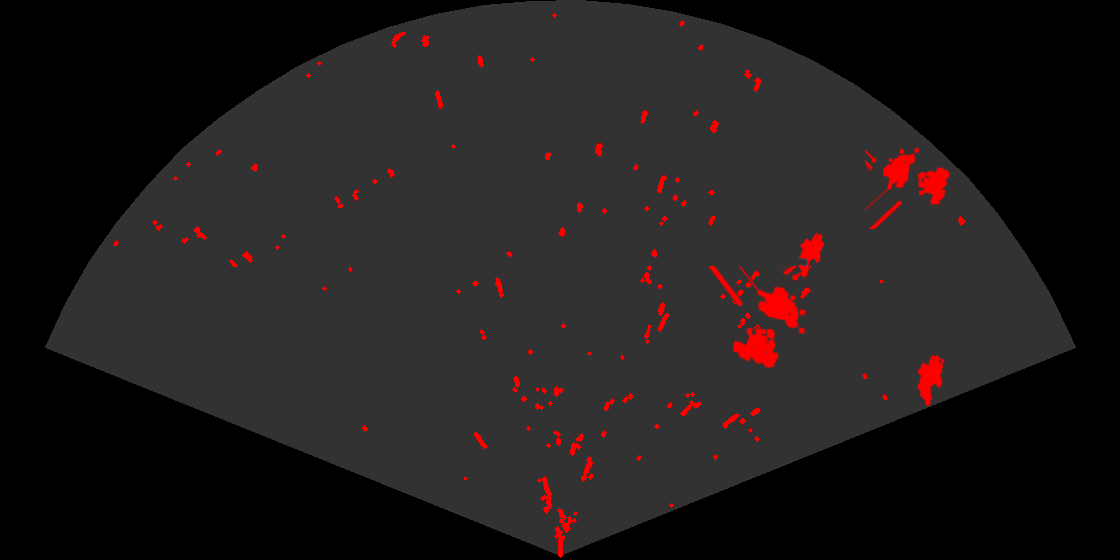AUV: (916, 353, 945, 408), (797, 231, 826, 279)
cage: (706, 266, 814, 370), (865, 146, 951, 229)
